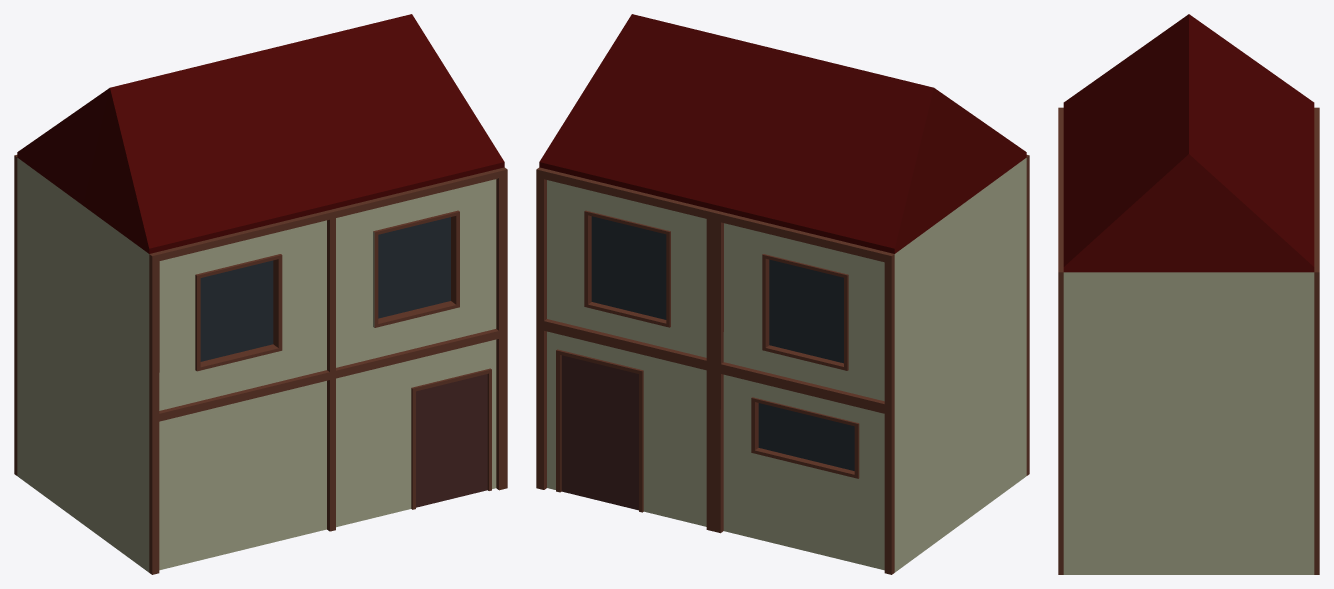
Rendered from VillageHouse1.glb.
The picture shows the model from 3 angles, left to right: view 1: azimuth 30°, elevation 25°; view 2: azimuth 150°, elevation 25°; view 3: azimuth 270°, elevation 25°; orthographic projection. The views are drawn at different scales.
Visible parts, largest first — view 1: House; view 2: House; view 3: House.
Part boxes in pixels (x1,y1,x2,y2): House: [14, 14, 507, 574]; House: [536, 14, 1029, 574]; House: [1058, 14, 1319, 574].
Size of the model in its own units: 10.5 by 12.15 by 7.05.
1 material, 1 textured.
